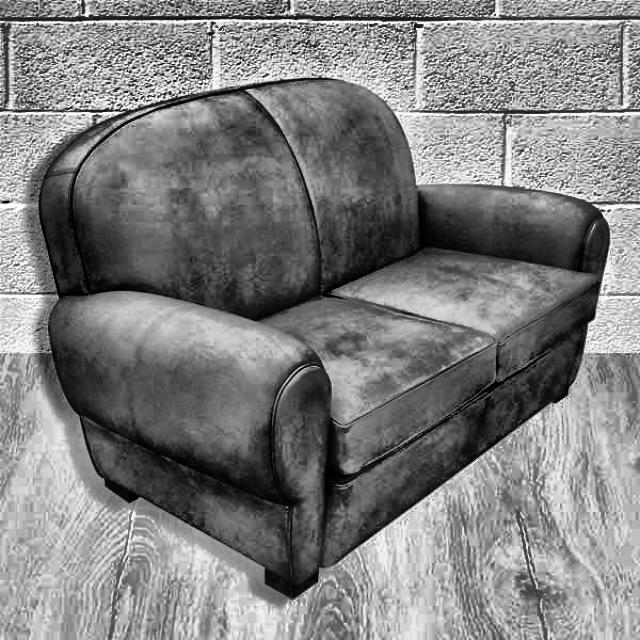sofa: (37, 75, 610, 598)
